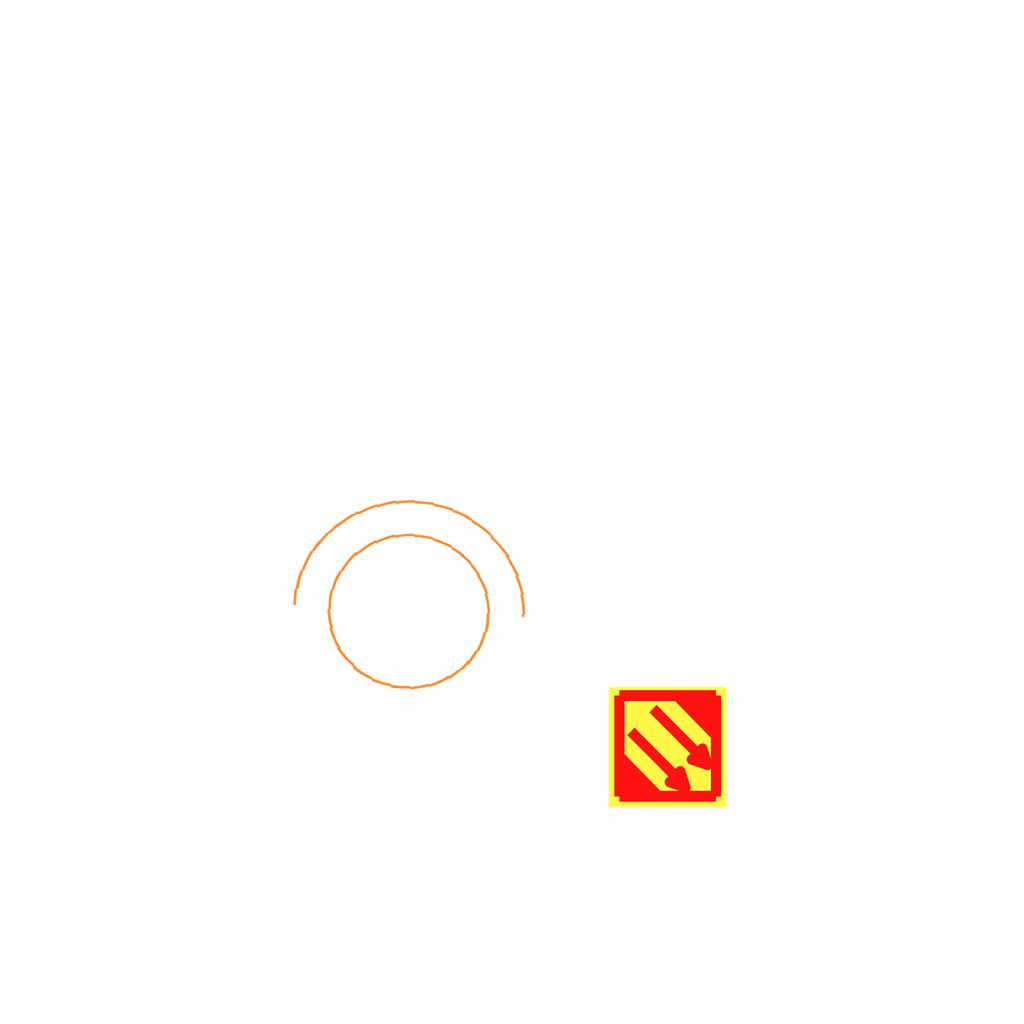ASR_Ansaugrauchmelder: (605, 685, 730, 810)
Scheinwerfer_fuer_Alarmbeleuchtung: (265, 482, 541, 721)
